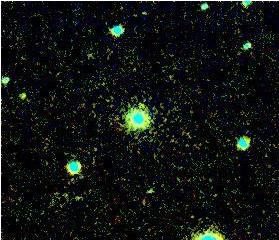star: (6, 80, 36, 110)
